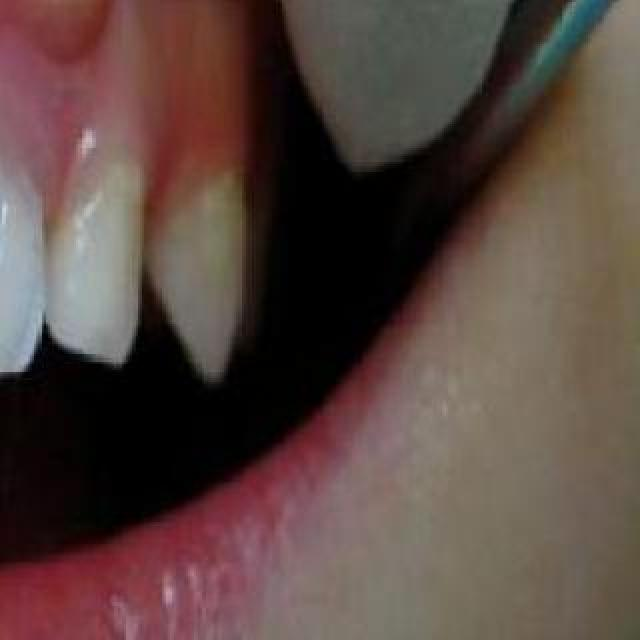spacing: (111, 209, 195, 351)
